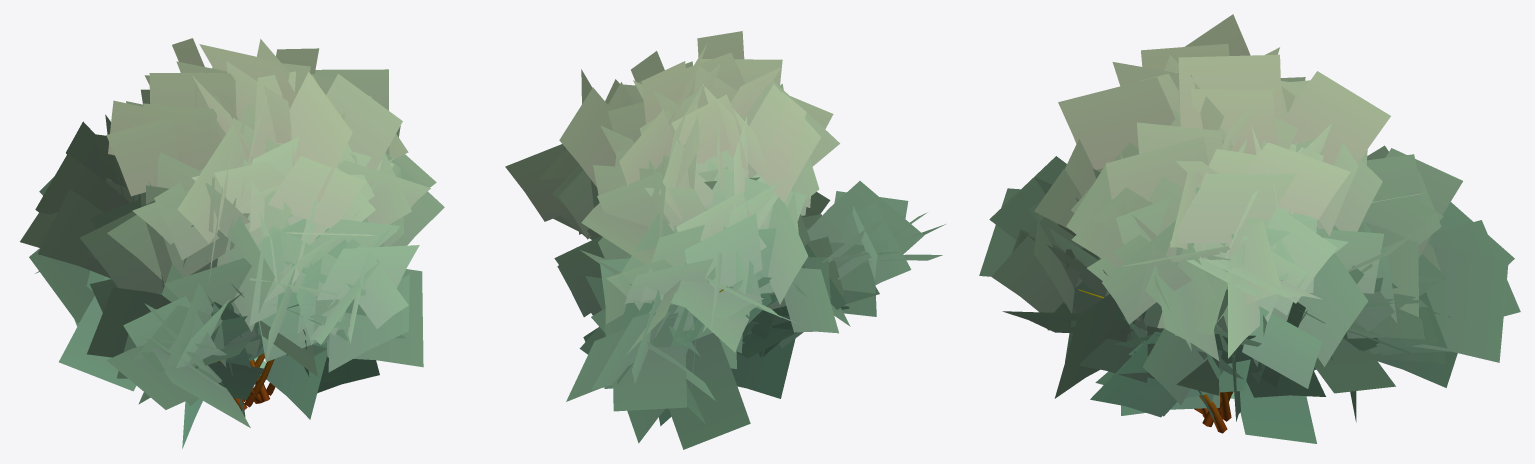
The model's file is bush_elder.glb.
The picture shows the model from 3 angles, left to right: view 1: azimuth 30°, elevation 25°; view 2: azimuth 150°, elevation 25°; view 3: azimuth 270°, elevation 25°; orthographic projection. The views are drawn at different scales.
Parts seen in each view (by area): view 1: LOD0; view 2: LOD0; view 3: LOD0.
Part boxes in pixels (x1,y1,x2,y2): LOD0: [20, 38, 444, 448]; LOD0: [505, 31, 945, 449]; LOD0: [979, 14, 1520, 443].
Size of what is drawn, in the model's own units: 3.23 by 3.08 by 3.77.
